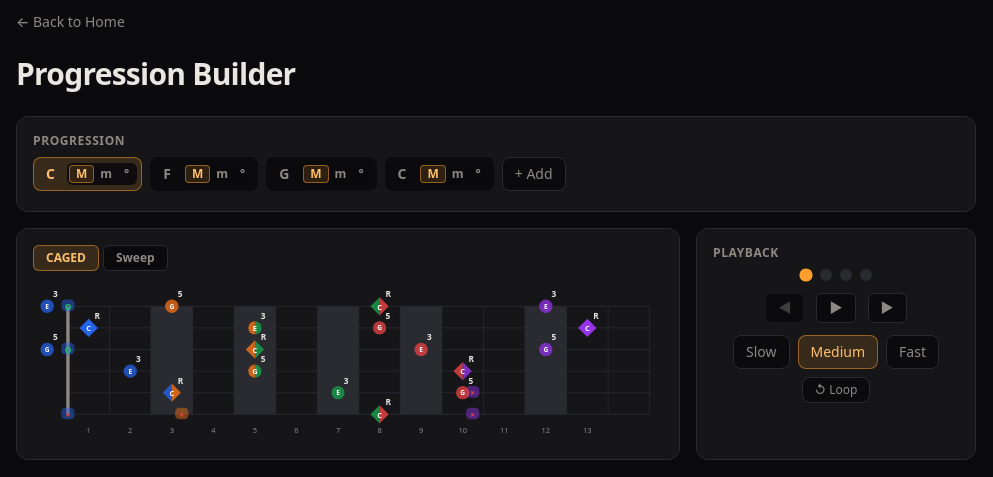
it: ProgressionBuilder › add chord › new chord defaults to major
What coordinates should you click on to do the following:
click the button "+ Add"
I would click on:
 (534, 174)
Its box is [502,157,566,191].
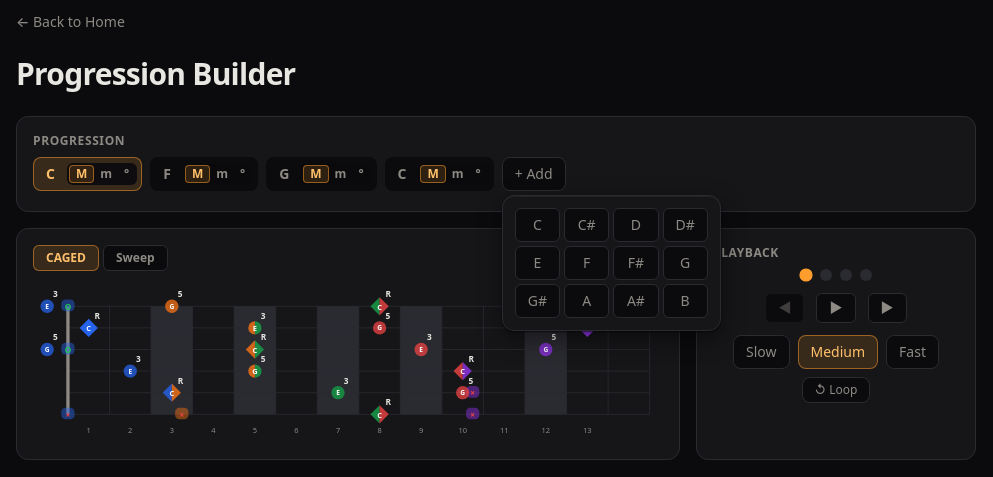
What coordinates should you click on to do the following:
click the button named "Add D major chord"
I would click on:
 (636, 225)
Its box is [613,208,659,242].
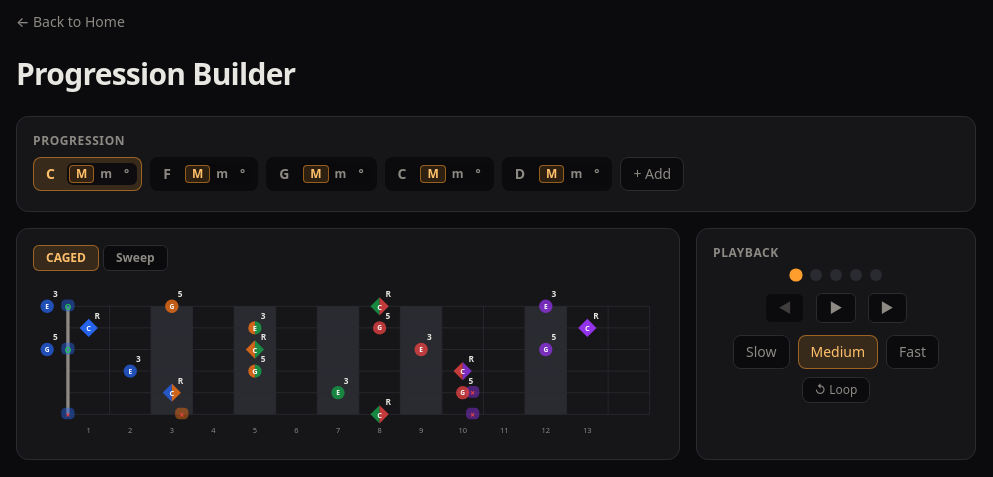
Check: the button named "Select chord D major at position 5" is shown, box [507,162,533,186]
